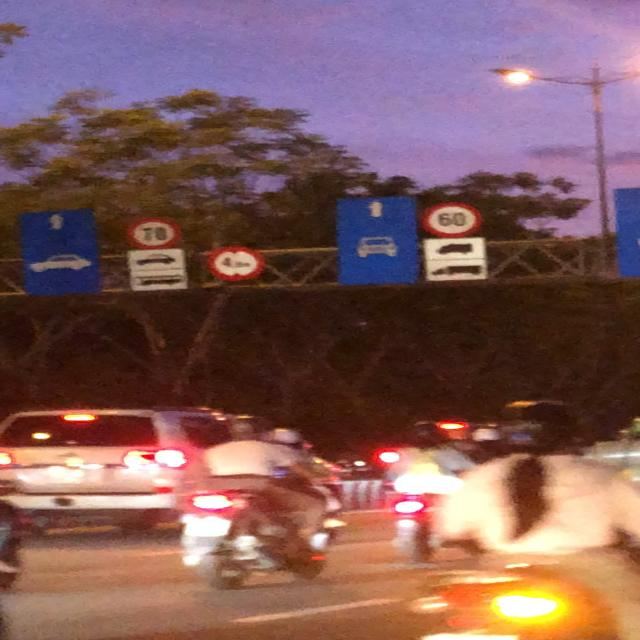Bien bao han che chieu cao: (202, 243, 270, 284)
Bien bao toc do toi da cho phep: (412, 199, 487, 239), (120, 215, 183, 250)
